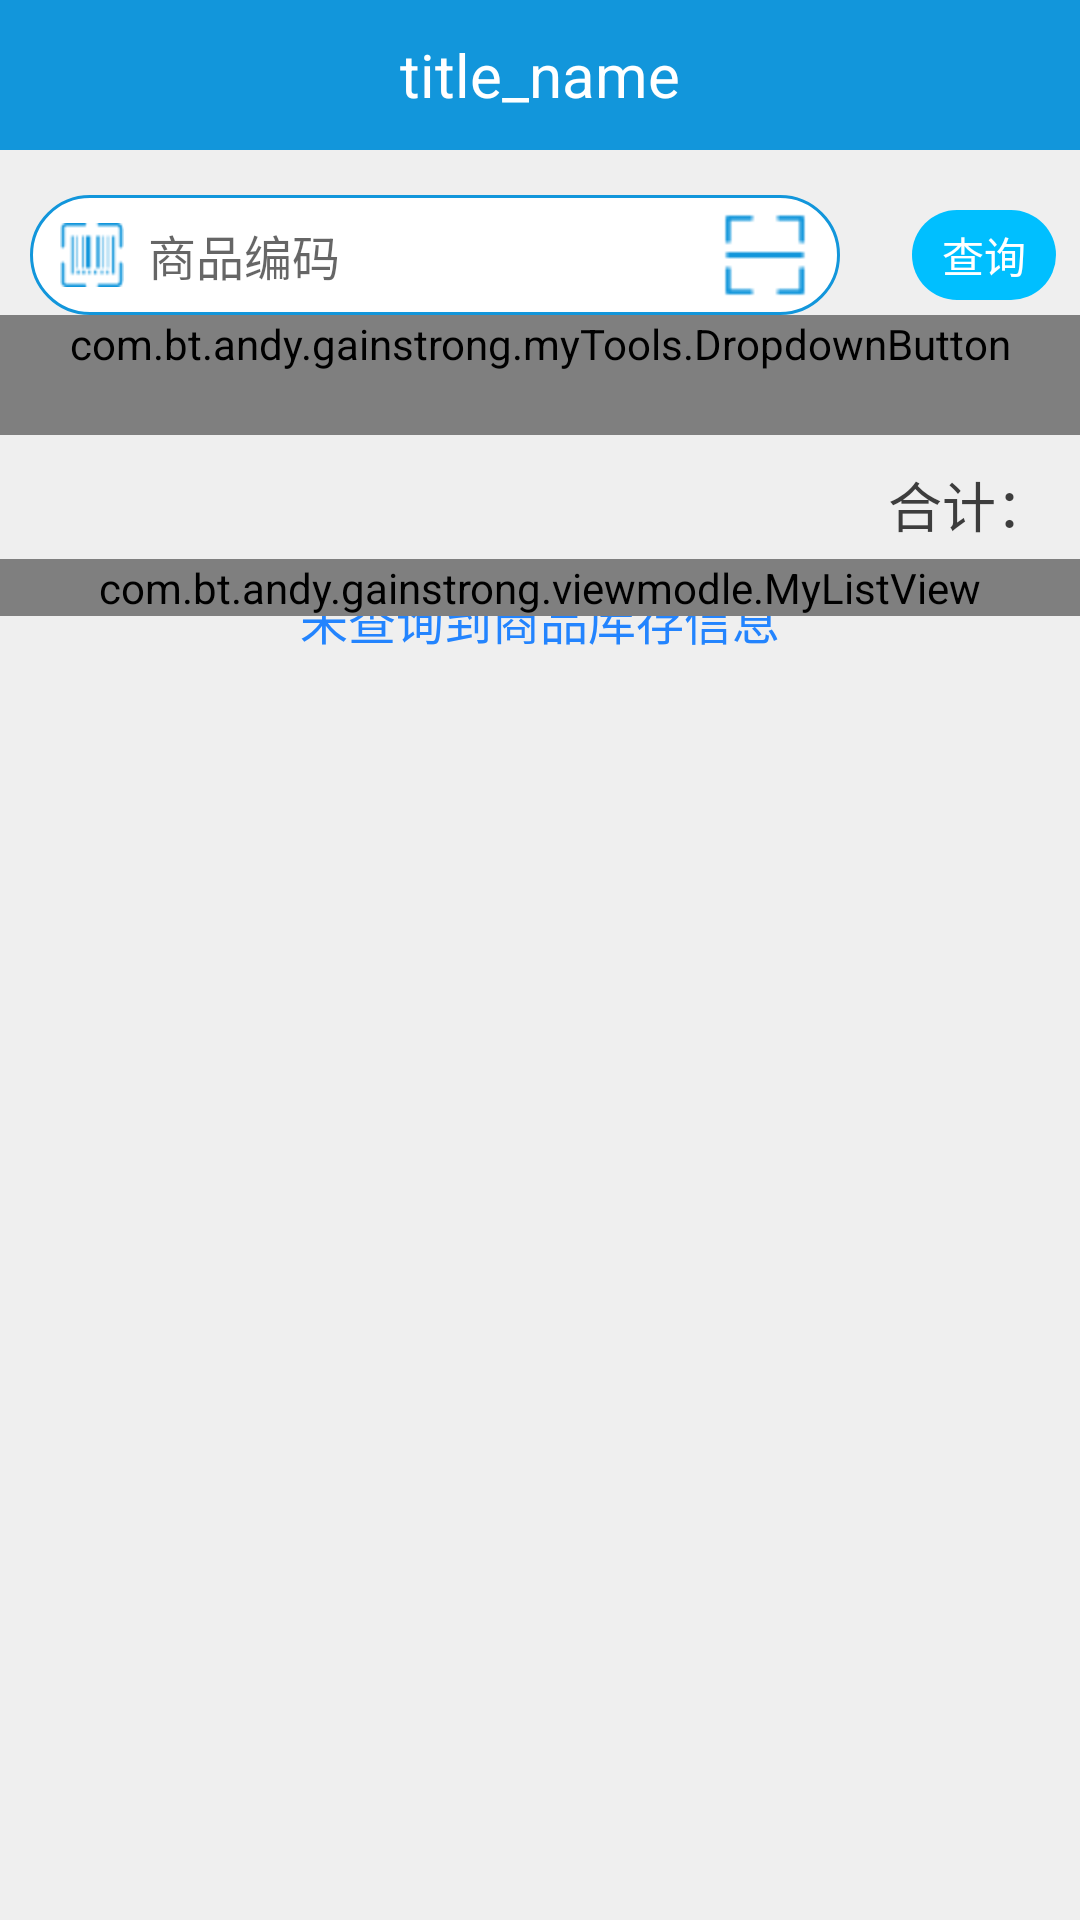

Point at icon controls on the screen. Image size 1080x1920, points as point (x, y).
scanning: point (765, 255)
